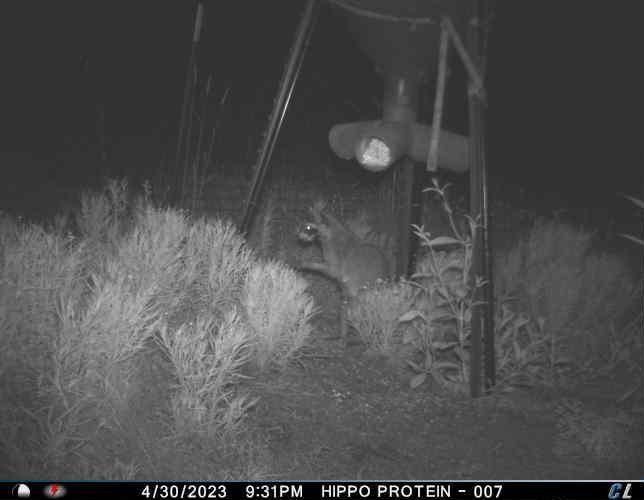Raccoon: (290, 200, 390, 334)
